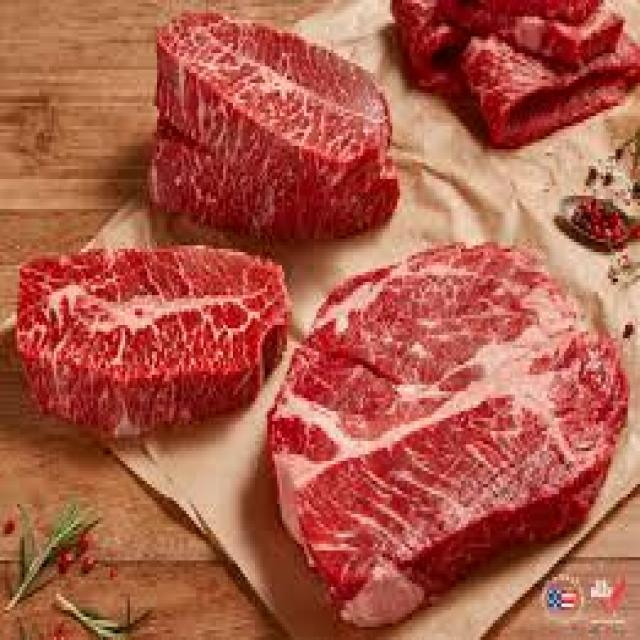Beef: (270, 245, 630, 625), (17, 245, 289, 438), (155, 13, 392, 196)
